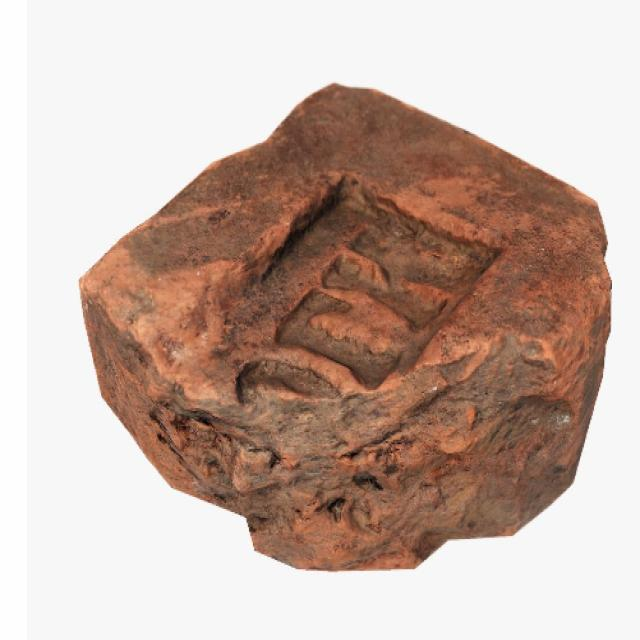bricks_ruin: (76, 84, 614, 572)
